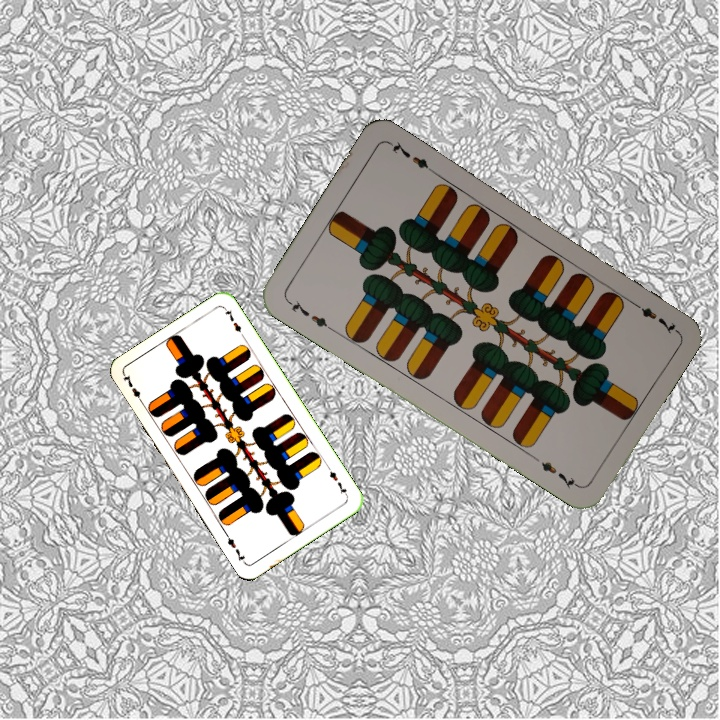E7: (626, 297, 679, 337), (283, 296, 336, 334), (119, 371, 147, 407), (323, 463, 350, 499)
